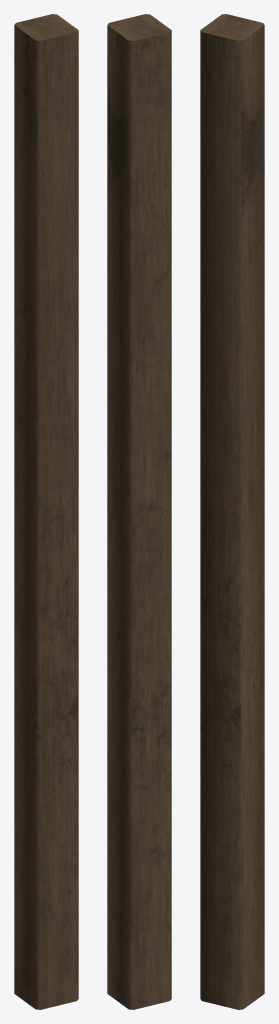
Rendered from SM_Veranda_Post_01.glb.
The picture shows the model from 3 angles, left to right: view 1: azimuth 30°, elevation 25°; view 2: azimuth 210°, elevation 25°; view 3: azimuth 330°, elevation 25°; orthographic projection.
Parts seen in each view (by area): view 1: SM_Veranda_Post_01; view 2: SM_Veranda_Post_01; view 3: SM_Veranda_Post_01.
Boxes of the visible parts, x1,y1,x2,y2 form: SM_Veranda_Post_01: (14,14,78,1009); SM_Veranda_Post_01: (107,14,171,1009); SM_Veranda_Post_01: (200,14,264,1009).
Size of the model in its own units: 0.13 by 2.81 by 0.13.
1 material, 1 textured.
